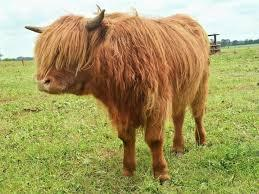cow: (23, 6, 209, 184)
